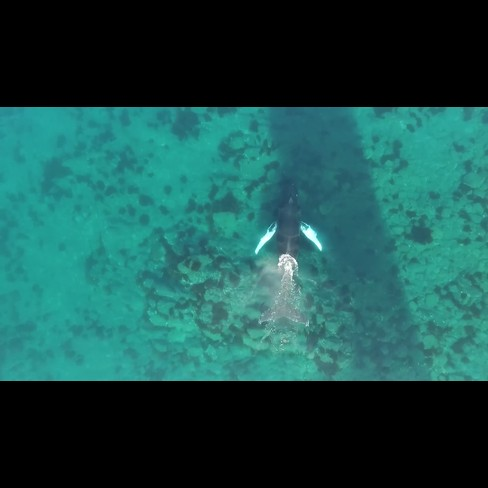hump: (249, 175, 323, 334)
